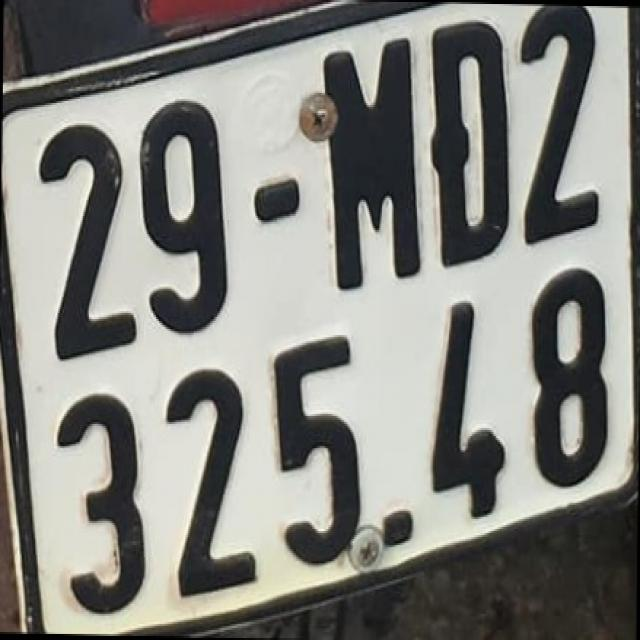2: (30, 111, 142, 365), (160, 355, 262, 602), (516, 4, 607, 250)
3: (48, 383, 152, 620)
4: (420, 293, 513, 531)
5: (267, 323, 369, 573)
8: (524, 260, 616, 497)
9: (137, 95, 235, 339)
D: (427, 20, 513, 269)
M: (318, 39, 423, 290)
